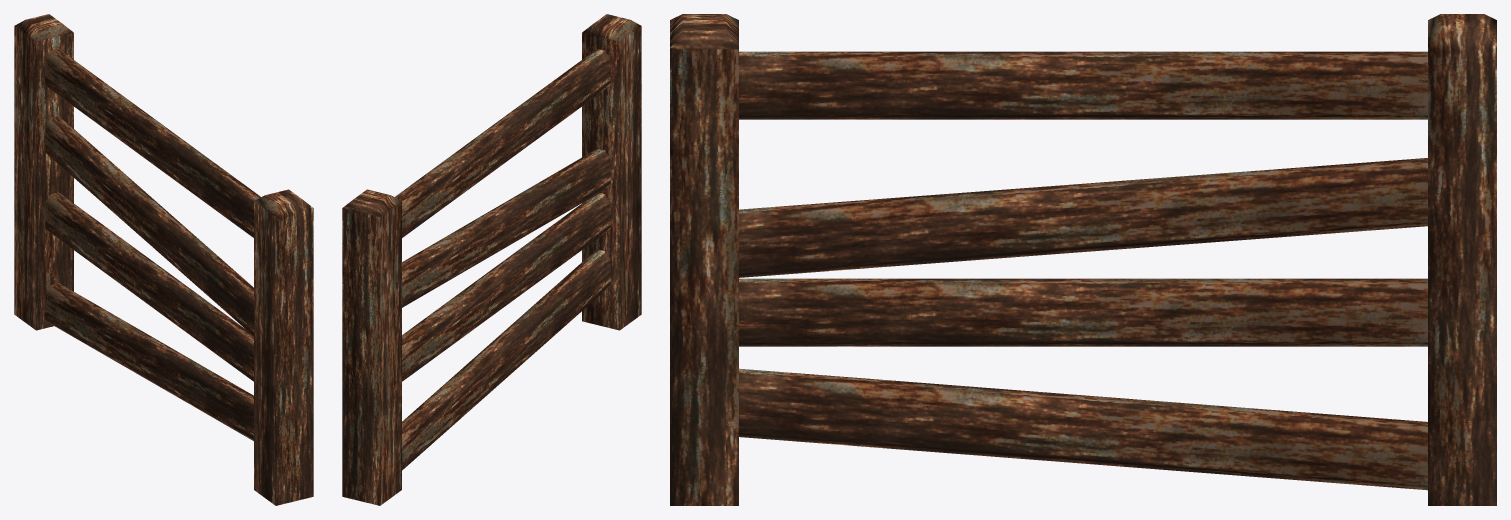
The model's file is Fence_02.fbx.
3 views of the same model, side by side, from view 1: azimuth 30°, elevation 25°; view 2: azimuth 150°, elevation 25°; view 3: azimuth 270°, elevation 25° (orthographic). The views are drawn at different scales.
Parts seen in each view (by area): view 1: Fence_2; view 2: Fence_2; view 3: Fence_2.
Boxes of the visible parts, x1,y1,x2,y2 form: Fence_2: (14, 14, 313, 505); Fence_2: (342, 14, 641, 505); Fence_2: (670, 14, 1496, 505).
Size of the model in its own units: 2 by 15 by 24.01.
1 material, 1 textured.
